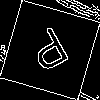P: (25, 25, 76, 81)
